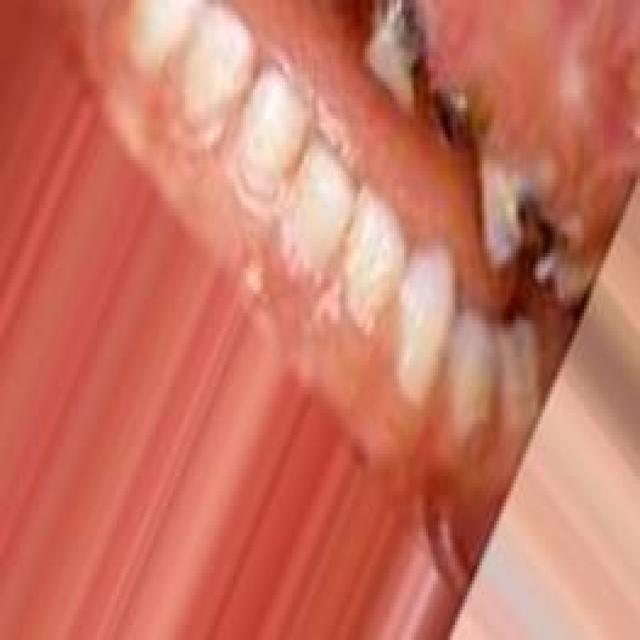caries: (502, 157, 573, 303), (374, 0, 429, 116), (439, 68, 497, 174)
